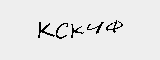К: (37, 19, 55, 41), (70, 20, 84, 39)
С: (55, 19, 69, 39)
Ф: (104, 17, 126, 36)
Ч: (85, 19, 103, 38)
